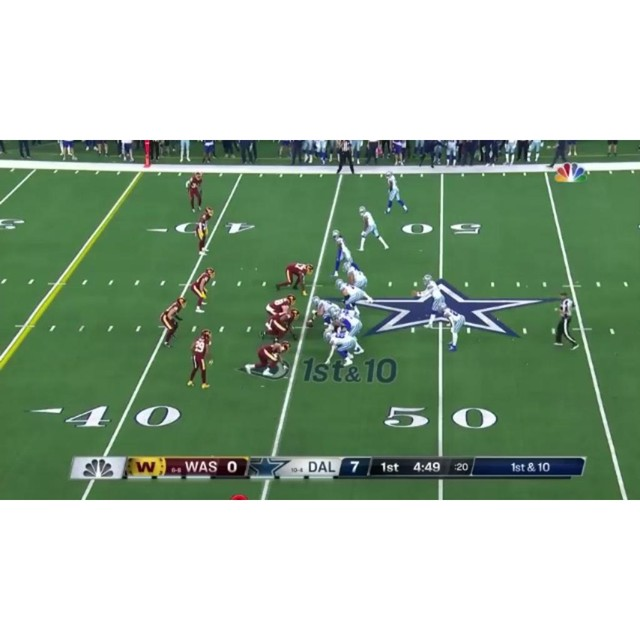american-football-player: (245, 340, 291, 377), (415, 274, 447, 327), (186, 329, 213, 390), (358, 205, 390, 251), (322, 329, 358, 368), (160, 297, 187, 348), (343, 259, 374, 302), (263, 308, 300, 342), (439, 303, 465, 351), (276, 263, 313, 295), (191, 267, 216, 312), (305, 296, 339, 329), (384, 170, 409, 214), (335, 279, 365, 314), (331, 229, 353, 276), (195, 206, 212, 255), (264, 295, 295, 321), (186, 170, 204, 212)
referee: (552, 291, 579, 351)
